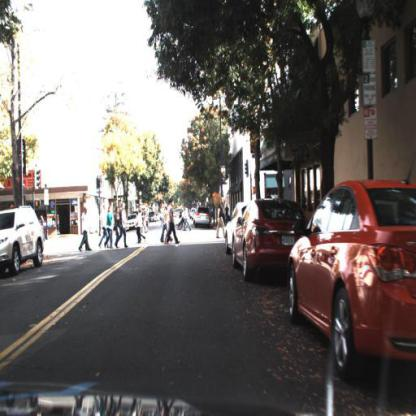car: (287, 178, 416, 387), (233, 196, 308, 282), (1, 204, 44, 278), (225, 204, 247, 260), (195, 206, 212, 229)
pedestrian: (164, 200, 182, 245), (216, 196, 228, 241), (216, 198, 226, 241), (82, 206, 91, 253), (99, 204, 108, 251), (120, 200, 128, 249), (102, 204, 110, 250), (162, 206, 169, 244), (107, 206, 113, 250), (166, 202, 172, 245), (116, 207, 121, 243), (116, 208, 120, 248), (39, 213, 48, 228)
trafficLight-Red: (219, 166, 227, 186), (97, 173, 102, 192)
